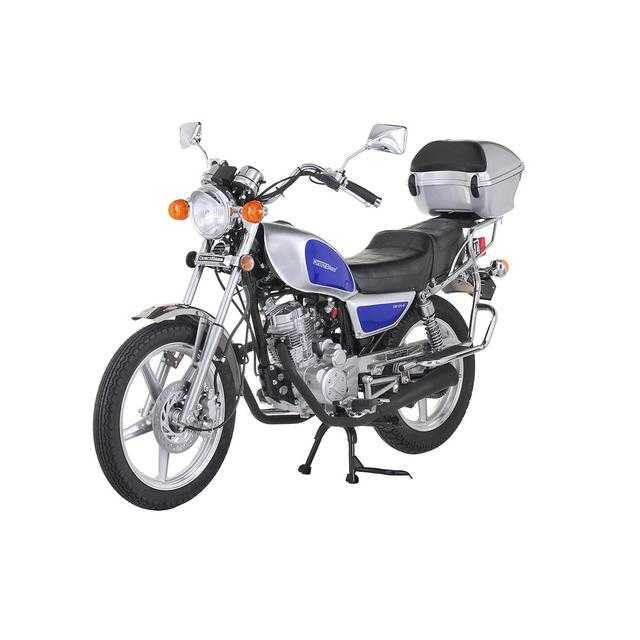motorbike: (92, 119, 524, 510)
